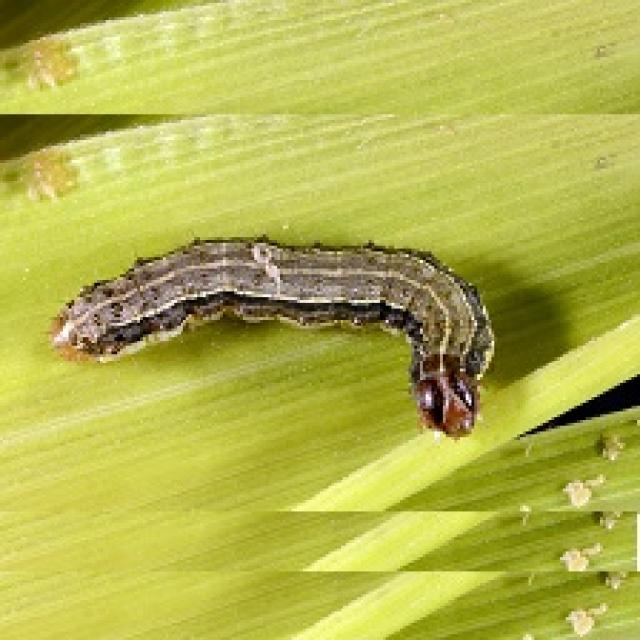worm: (50, 232, 498, 444)
